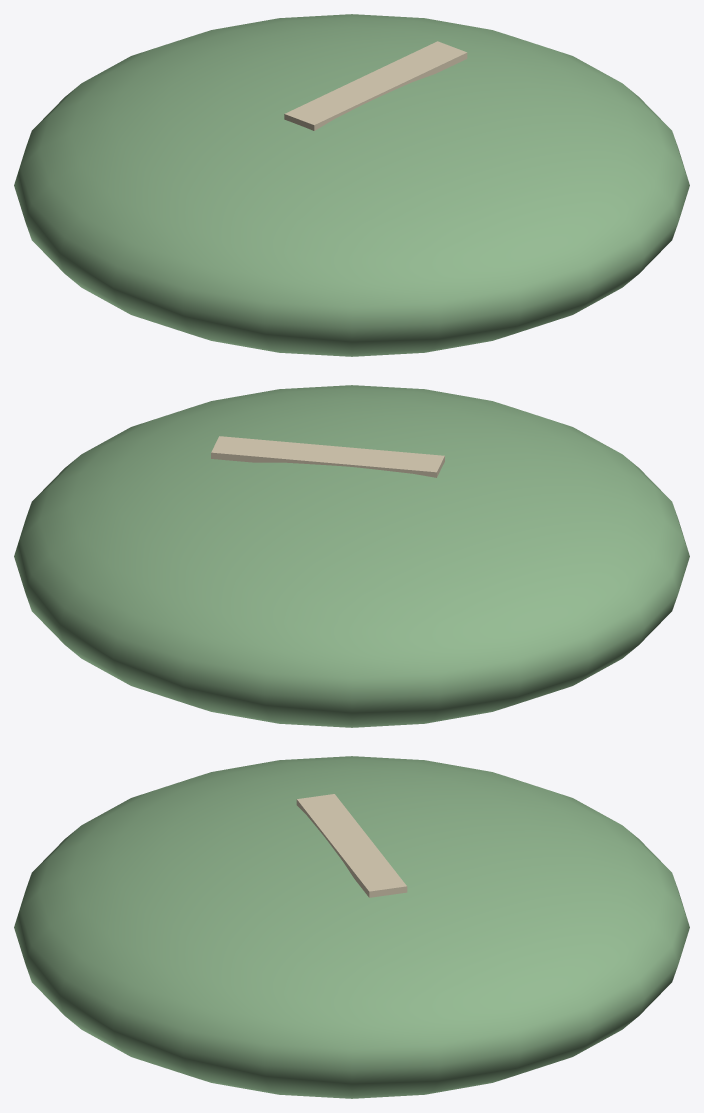
Rendered from small_planet_patch.glb.
The picture shows the model from 3 angles, top to bottom: view 1: azimuth 30°, elevation 25°; view 2: azimuth 150°, elevation 25°; view 3: azimuth 270°, elevation 25°; orthographic projection.
Visible parts, largest first — view 1: curved_grass, path; view 2: curved_grass, path; view 3: curved_grass, path.
Part boxes in pixels (box(x1,y1,x2,y2)): curved_grass: box(14, 14, 689, 356); path: box(284, 41, 467, 130); curved_grass: box(14, 385, 689, 727); path: box(211, 436, 444, 477); curved_grass: box(14, 756, 689, 1098); path: box(296, 794, 407, 897).
Size of the model in its own units: 4.4 by 1.37 by 4.4.
